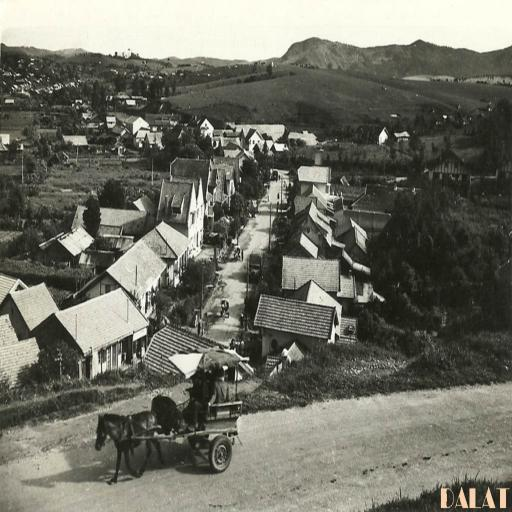horse: (94, 414, 168, 483)
